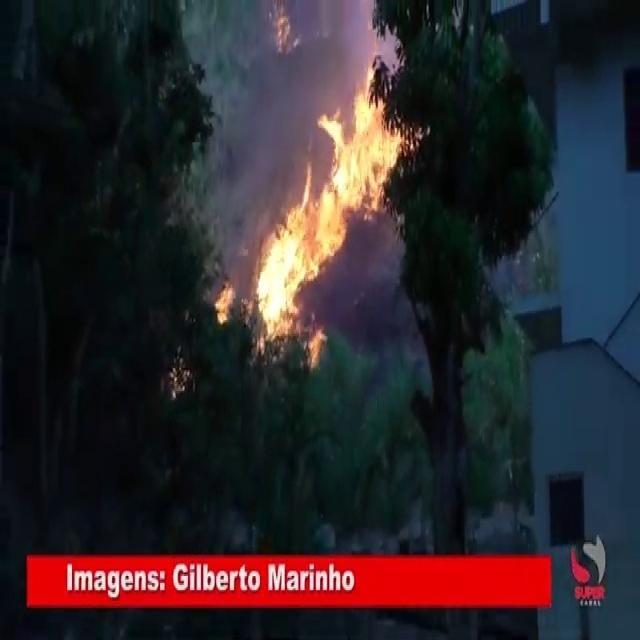Fire: (252, 54, 411, 341), (210, 271, 238, 331)
